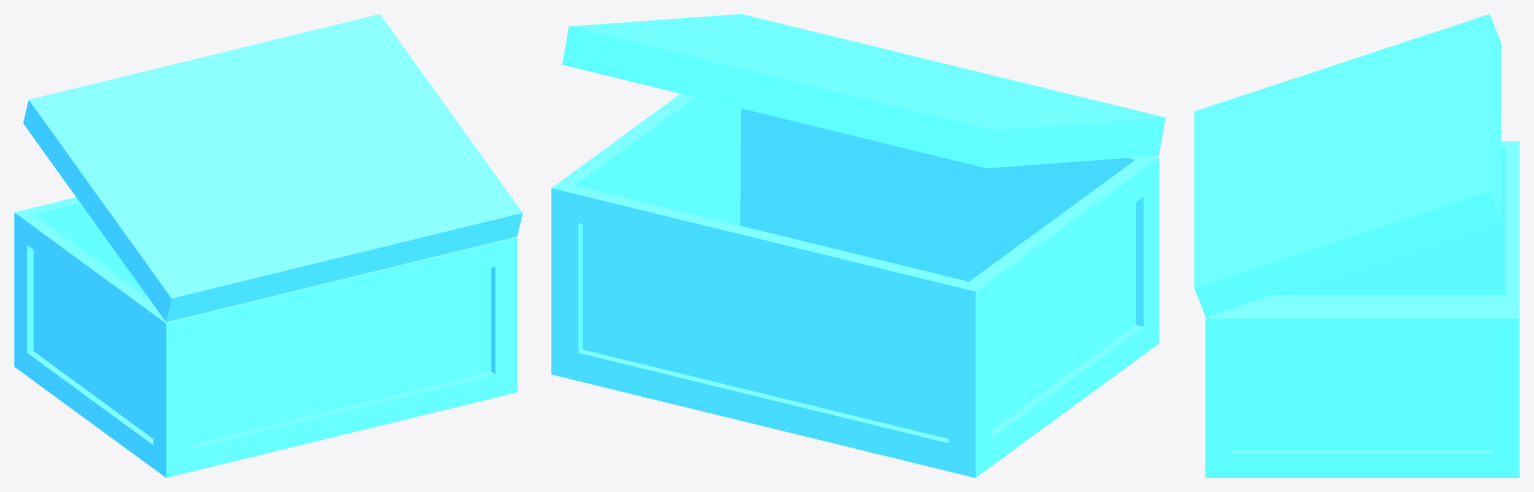
File: Box_Model_Story5.fbx
3 views of the same model, side by side, from view 1: azimuth 30°, elevation 25°; view 2: azimuth 150°, elevation 25°; view 3: azimuth 270°, elevation 25° (orthographic). The views are drawn at different scales.
Visible parts, largest first — view 1: Object001; view 2: Object001; view 3: Object001.
Part boxes in pixels (bbox=[...]): Object001: bbox=[14, 14, 522, 477]; Object001: bbox=[551, 14, 1165, 477]; Object001: bbox=[1194, 14, 1519, 477].
Bounding box in the file's own units: 15.75 × 11.89 × 12.23.
